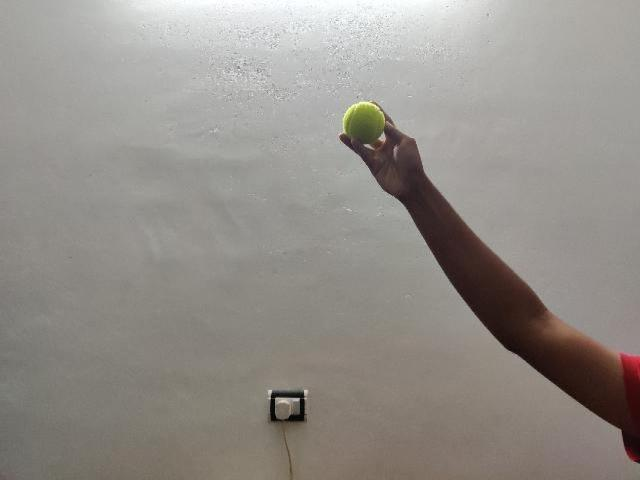tennis-ball: (342, 100, 384, 144)
